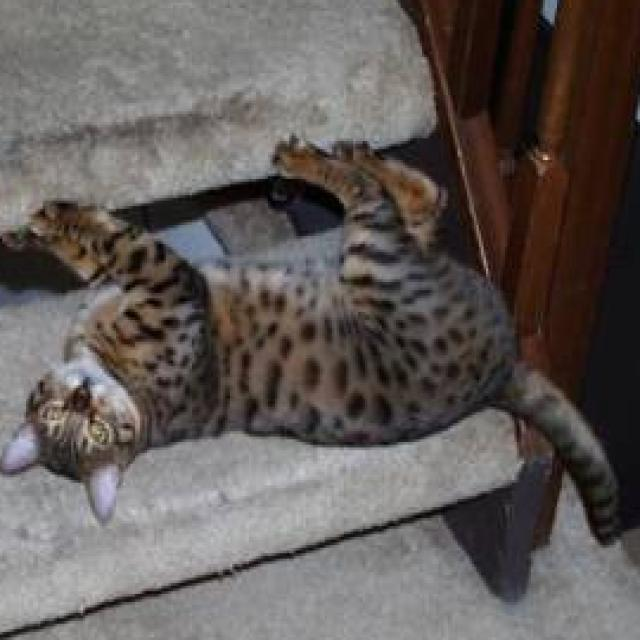Bengal: (0, 124, 640, 558)
